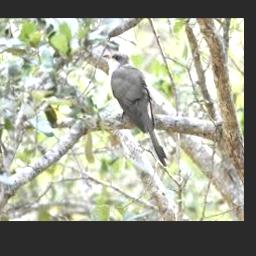Cuckoo: (104, 52, 167, 166)
